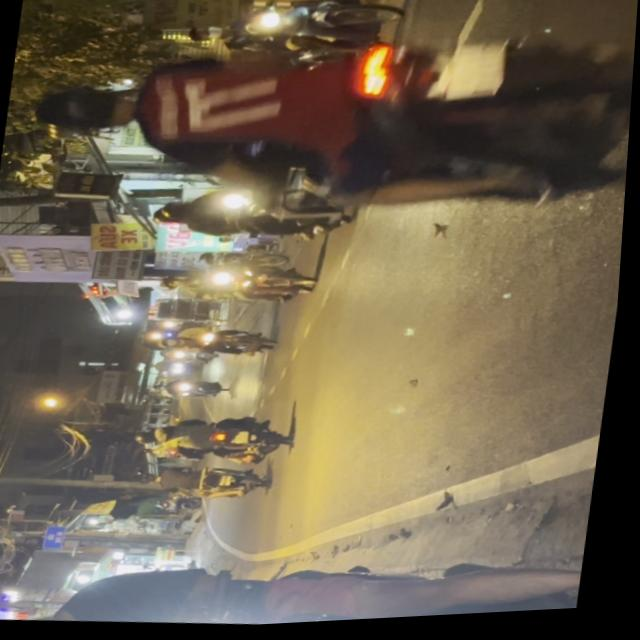helmet: (31, 77, 141, 140), (150, 199, 191, 226)
licenseplate: (15, 0, 639, 256), (181, 0, 412, 79), (145, 174, 365, 254)
motorcyclist: (187, 25, 225, 45)
nohelmet: (435, 41, 504, 108)
